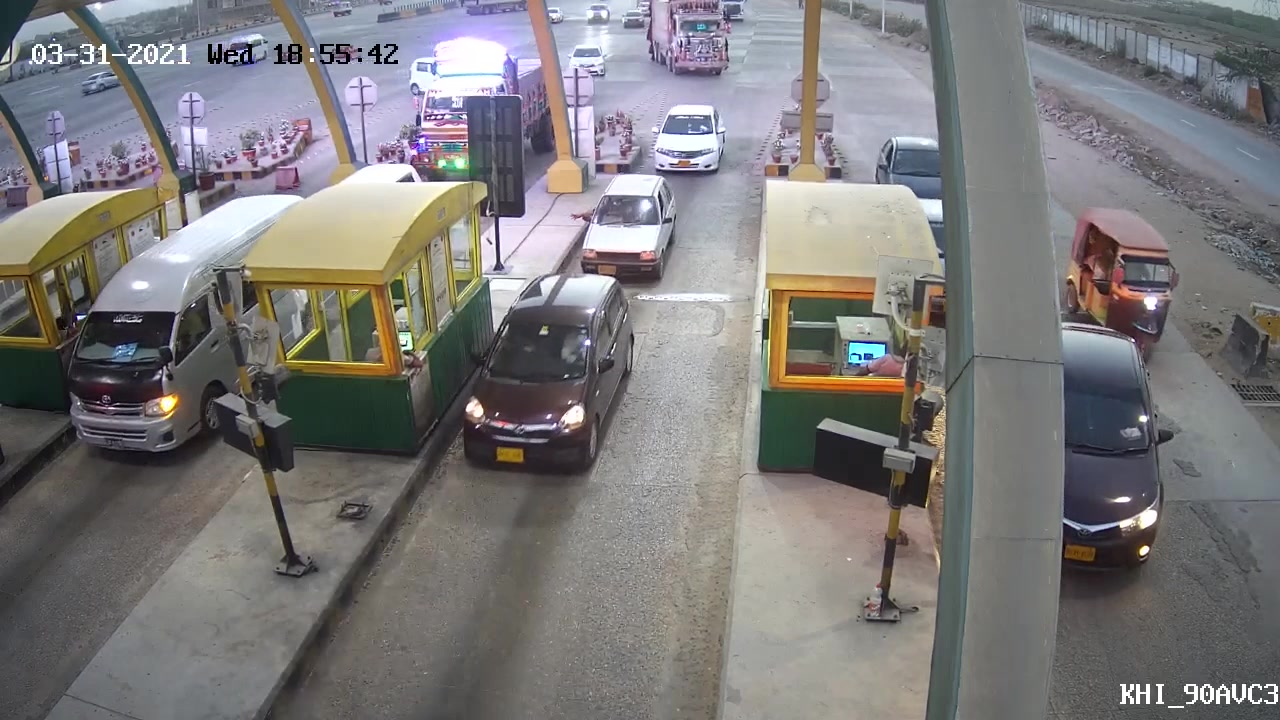F1: (453, 269, 638, 481)
